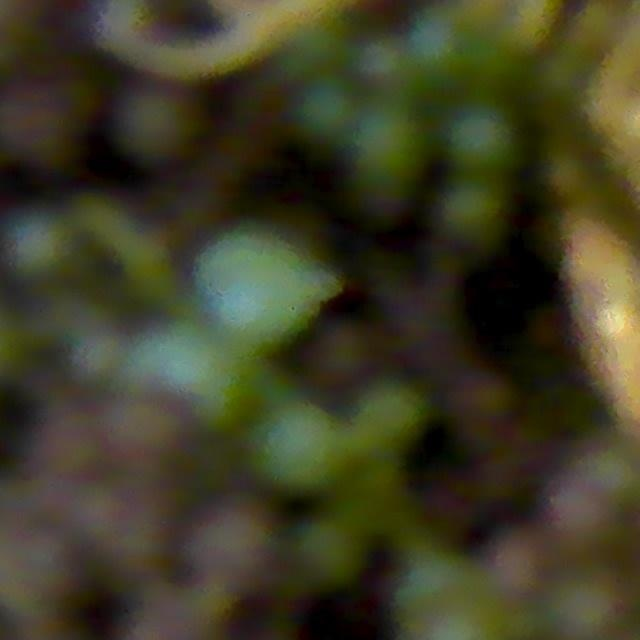SeaGrape: (199, 222, 322, 351), (249, 398, 354, 498), (130, 320, 241, 408), (192, 501, 276, 588), (346, 99, 427, 188), (538, 563, 631, 640), (110, 85, 196, 168), (433, 173, 514, 256), (0, 85, 76, 169), (393, 540, 470, 616), (351, 376, 427, 453), (445, 102, 521, 176), (77, 0, 166, 63), (405, 6, 475, 81), (1, 209, 74, 279), (295, 519, 365, 587), (292, 74, 359, 141), (307, 320, 372, 385), (489, 532, 545, 595)
